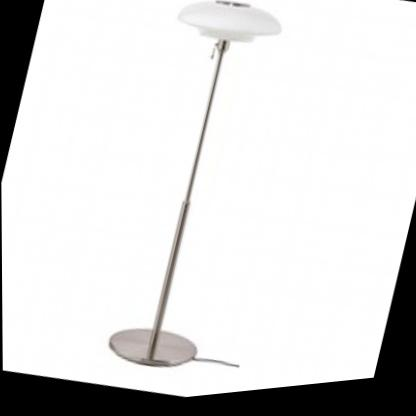Lamp: (86, 0, 297, 396)
